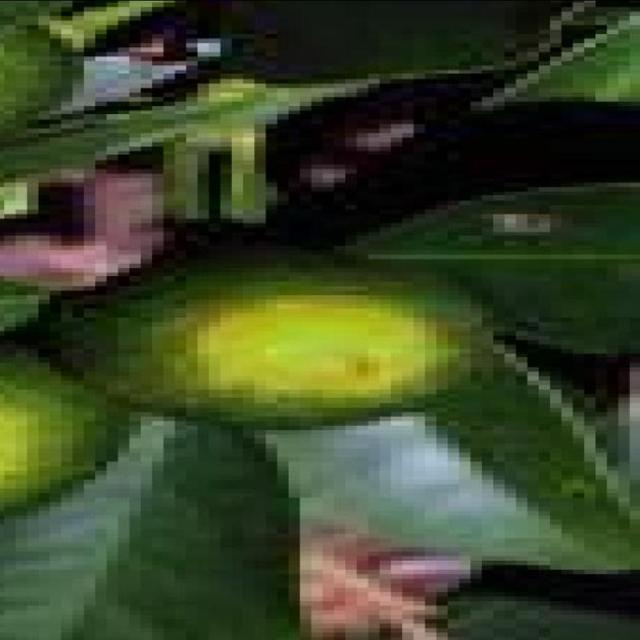Sunscald Fruit: (109, 202, 314, 274)
